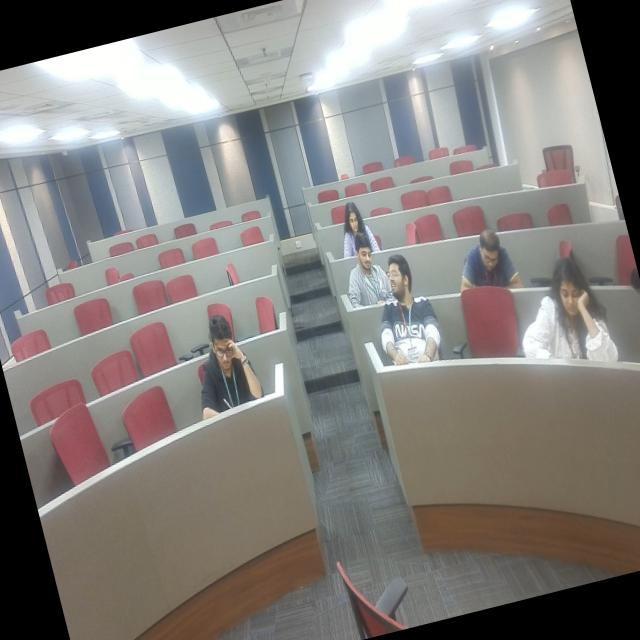cheating: (363, 236, 463, 407)
non-cheating: (176, 294, 271, 438), (518, 248, 620, 382), (455, 202, 520, 298), (332, 226, 396, 308), (329, 184, 382, 254)
